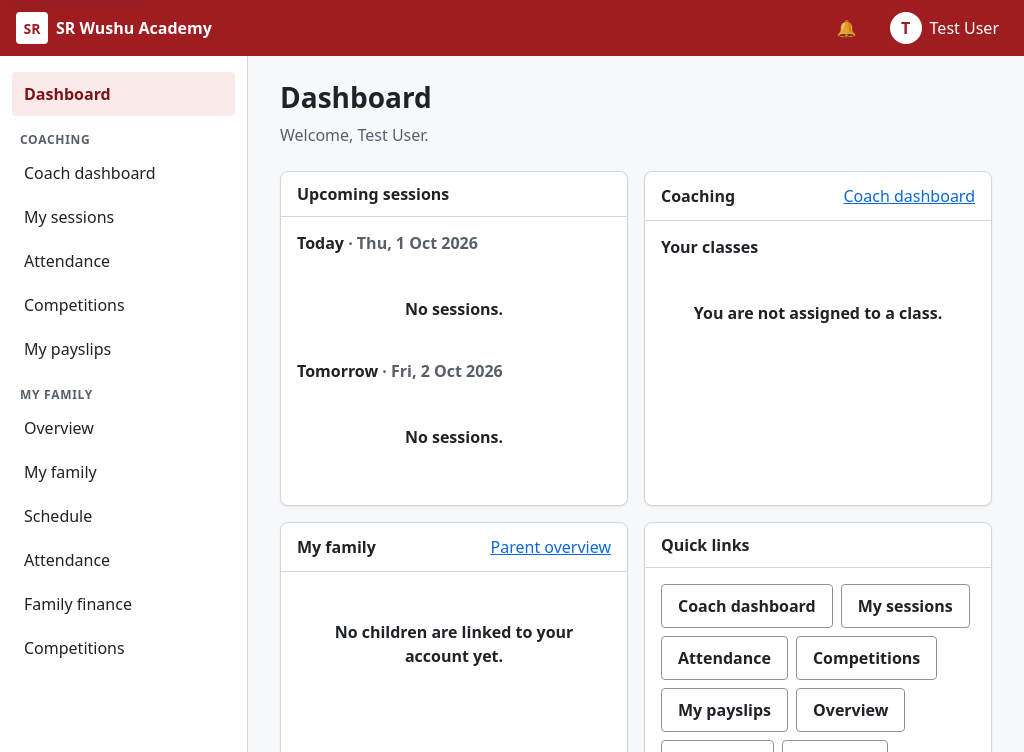
Test: role-based navigation › lists every role in the user menu
This screenshot has width=1024, height=752.
Check: the heading "Dashboard" is shown, box x1=280 y1=80 x2=432 y2=115
Click the button "T Test User".
click(944, 28)  # box x1=881 y1=6 x2=1008 y2=50
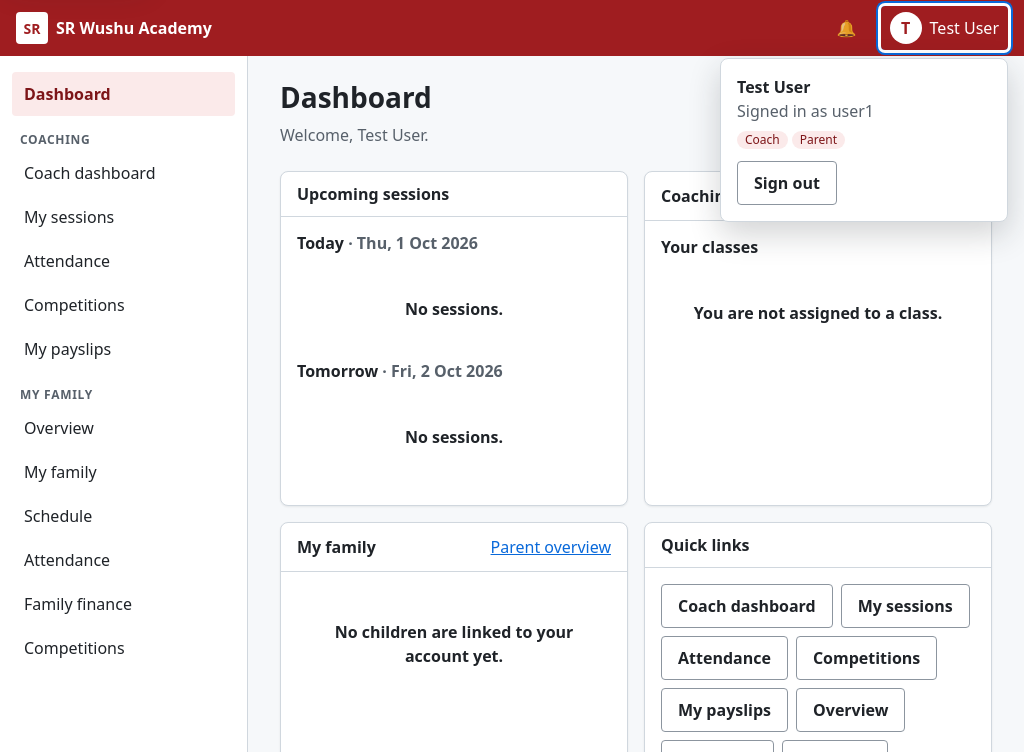
Check: the list items read "Coach", "Parent", in this order, box x1=737 y1=131 x2=788 y2=149; x1=792 y1=131 x2=845 y2=149
